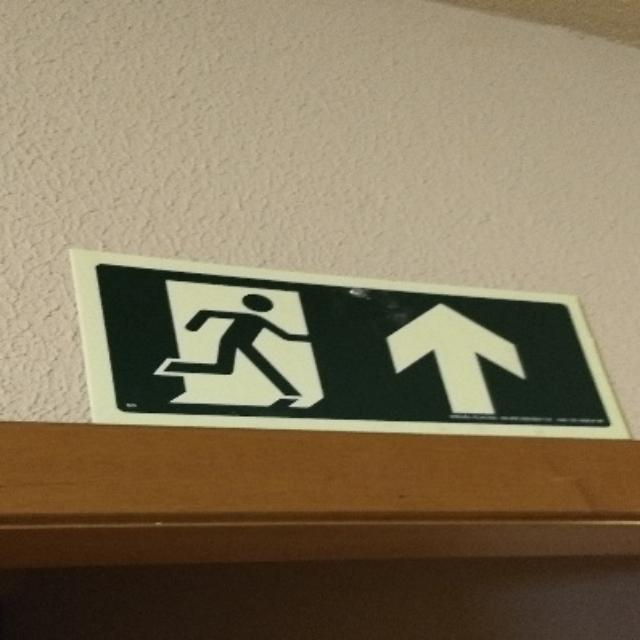exit: (72, 251, 627, 436)
